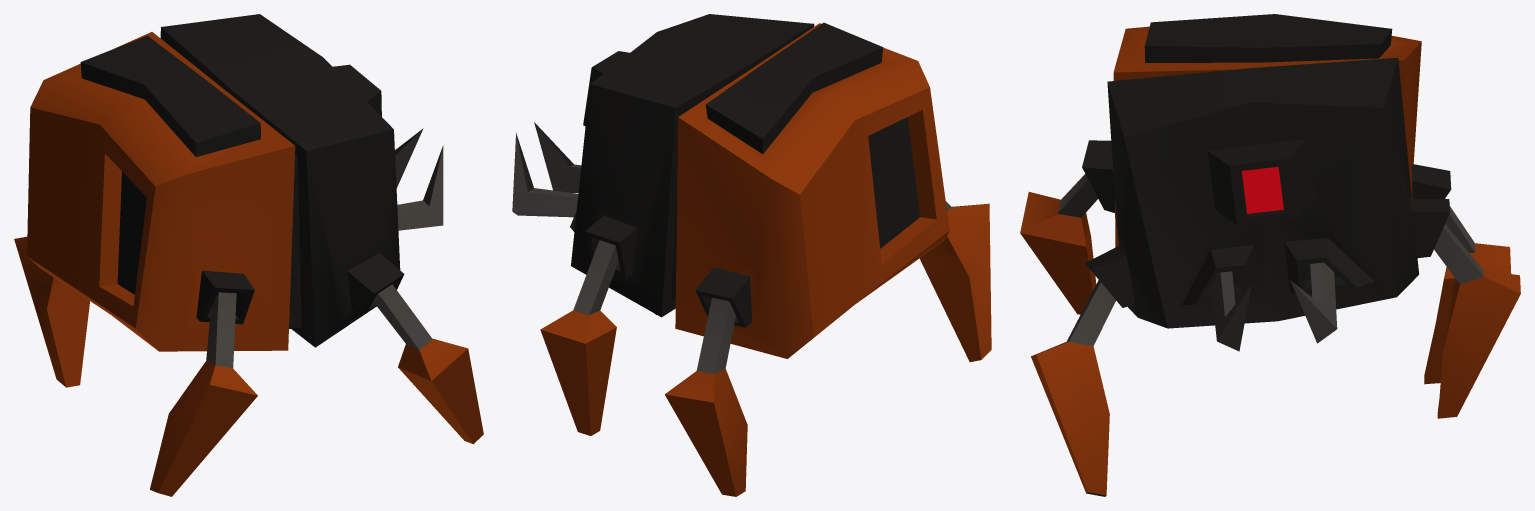
The model's file is SPIDBOT3.obj.
3 views of the same model, side by side, from view 1: azimuth 30°, elevation 25°; view 2: azimuth 150°, elevation 25°; view 3: azimuth 270°, elevation 25° (orthographic). The views are drawn at different scales.
Visible parts, largest first — view 1: Cube.001; view 2: Cube.001; view 3: Cube.001.
Boxes of the visible parts, <box> form: Cube.001: <box>14,14,483,496</box>; Cube.001: <box>512,14,991,496</box>; Cube.001: <box>1020,14,1520,496</box>.
Size of what is drawn, in the model's own units: 3.01 by 2.78 by 3.45.
